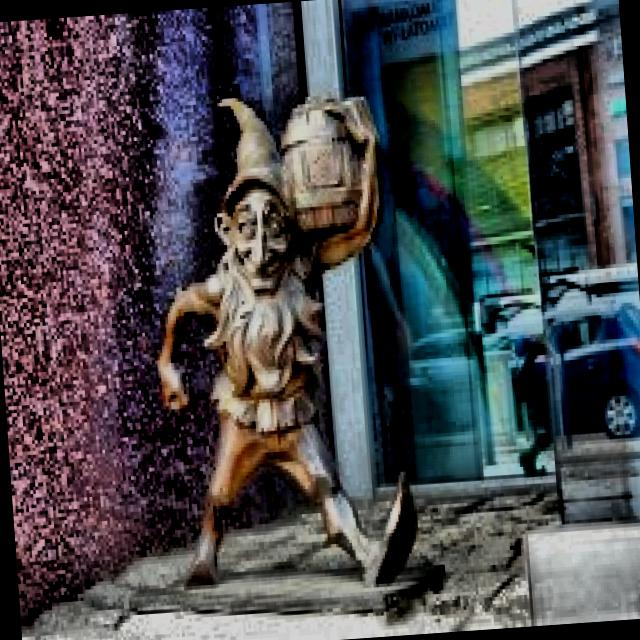Leprykonus: (122, 75, 430, 618)
